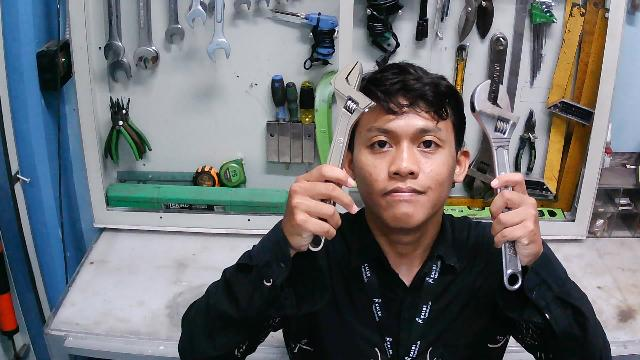kunci_inggris: (307, 59, 374, 254), (469, 77, 525, 291)
